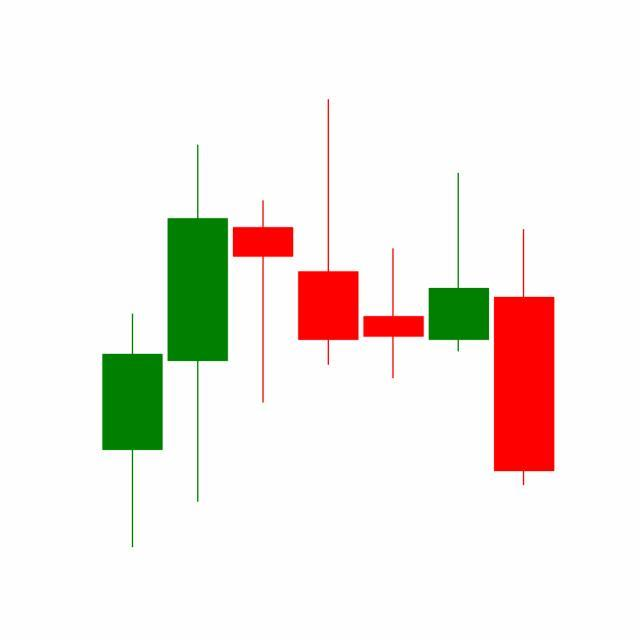Hikkake Pattern: (229, 100, 555, 491)
